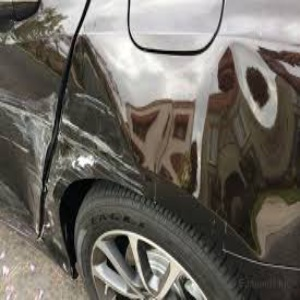door_scratch: (3, 69, 154, 199)
